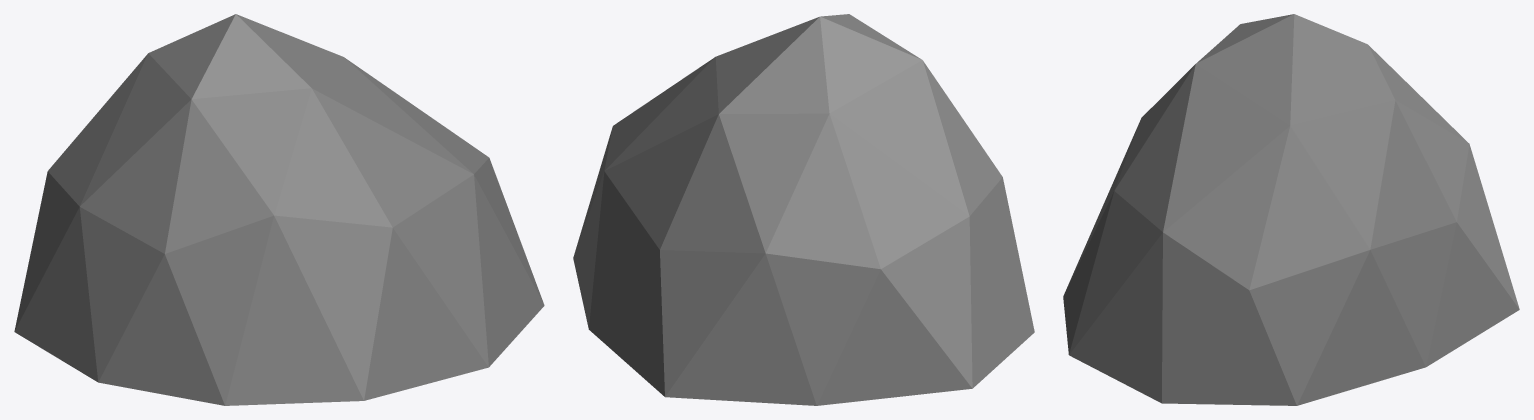
Rendered from PlainsStone(4).fbx.
3 views of the same model, side by side, from view 1: azimuth 30°, elevation 25°; view 2: azimuth 150°, elevation 25°; view 3: azimuth 270°, elevation 25° (orthographic). The views are drawn at different scales.
Parts seen in each view (by area): view 1: PlainsStone(4); view 2: PlainsStone(4); view 3: PlainsStone(4).
Boxes of the visible parts, x1=… form: PlainsStone(4): x1=14, y1=14, x2=544, y2=405; PlainsStone(4): x1=573, y1=14, x2=1034, y2=405; PlainsStone(4): x1=1063, y1=14, x2=1519, y2=405.
Bounding box in the file's own units: 1.04 × 0.6873 × 1.02.
